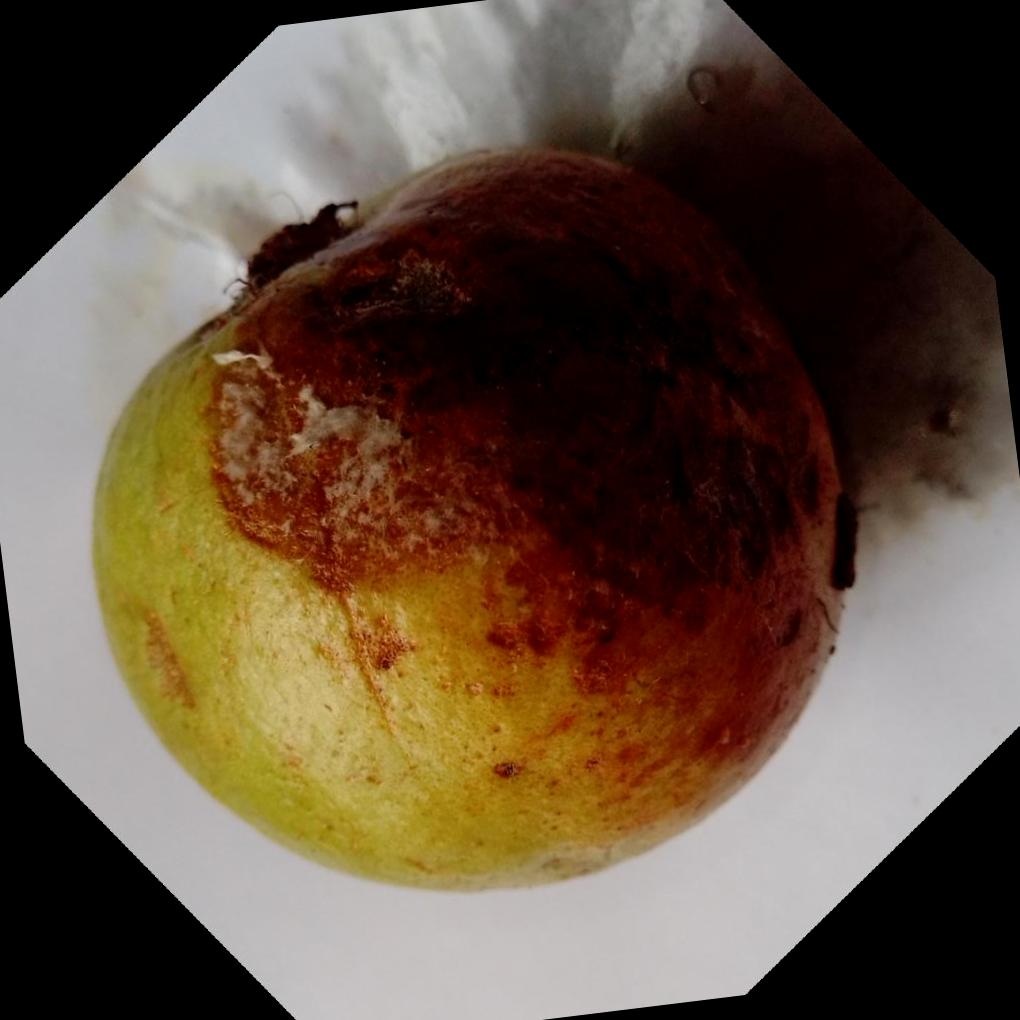FreshOrange: (92, 144, 861, 897)
